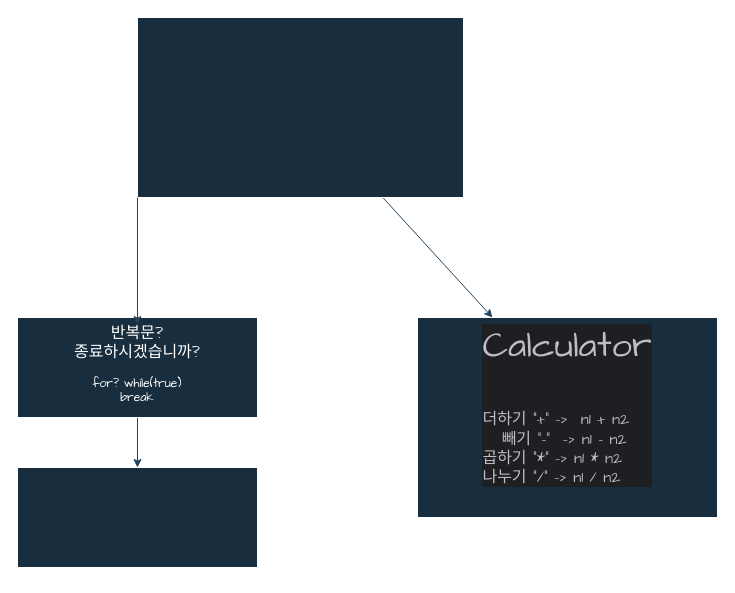
The diagram is 735 pixels wide and 593 high, and some of its shapes have lost their labels. Here are the shapes that lost their labels. From the top down, the centre of each, then its label:
At (300,107): "Main 입력처리?".
At (137,517): "open fun equals(other: Any?): Boolean 객체의 내용을 비교하는 함수".
